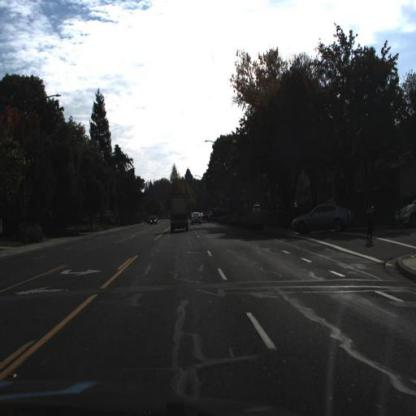car: (292, 201, 352, 235), (170, 190, 193, 235), (191, 208, 204, 227), (252, 202, 264, 215)
pedestrian: (365, 196, 376, 246)
truck: (168, 188, 191, 236)
